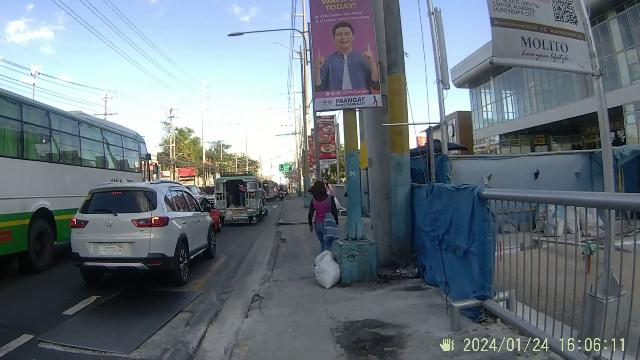car: (68, 179, 218, 280), (210, 171, 270, 229)
lamp_post: (227, 22, 307, 152)
utility_post: (331, 110, 381, 281)
